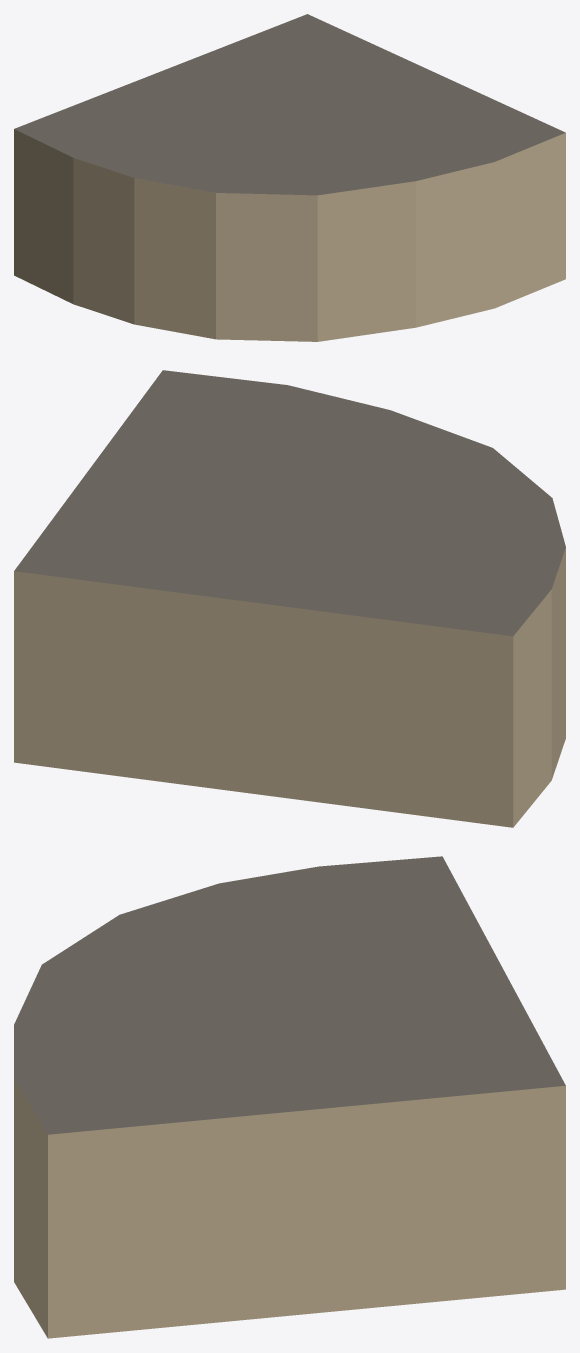
3 views of the same model, one above another, from view 1: azimuth 30°, elevation 25°; view 2: azimuth 150°, elevation 25°; view 3: azimuth 270°, elevation 25° (orthographic). The views are drawn at different scales.
Parts seen in each view (by area): view 1: HP-w298265975; view 2: HP-w298265975; view 3: HP-w298265975.
Boxes of the visible parts, <box> form: HP-w298265975: <box>14,14,565,341</box>; HP-w298265975: <box>14,370,565,827</box>; HP-w298265975: <box>14,856,565,1338</box>.
Bounding box in the file's own units: 57.99 × 19.8 × 48.58.
